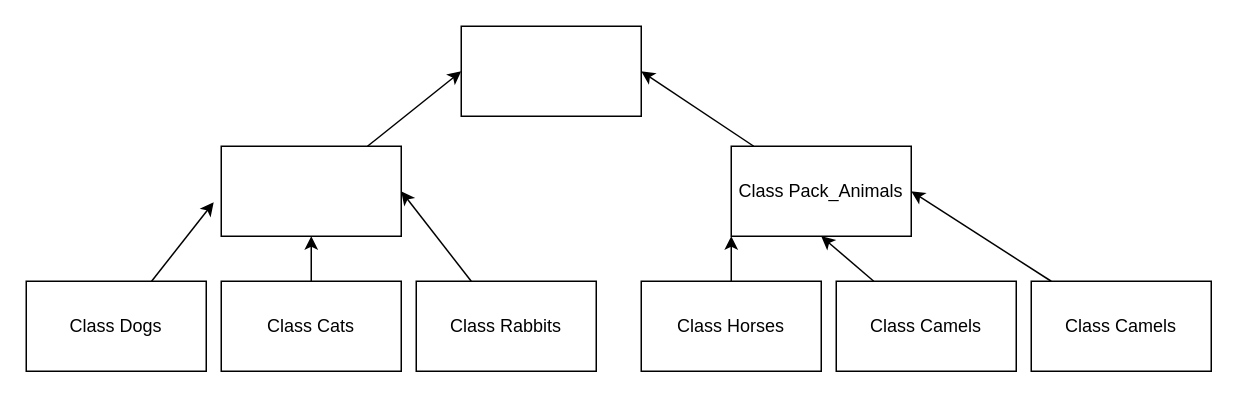
Some shapes in this 1238 by 398 pixel diagram are drawn without their labels. The centre of each missing label's shape, as x and y in pixels:
"Class Animals" belongs at pixel 550 70.
"Class Pets" belongs at pixel 310 190.
